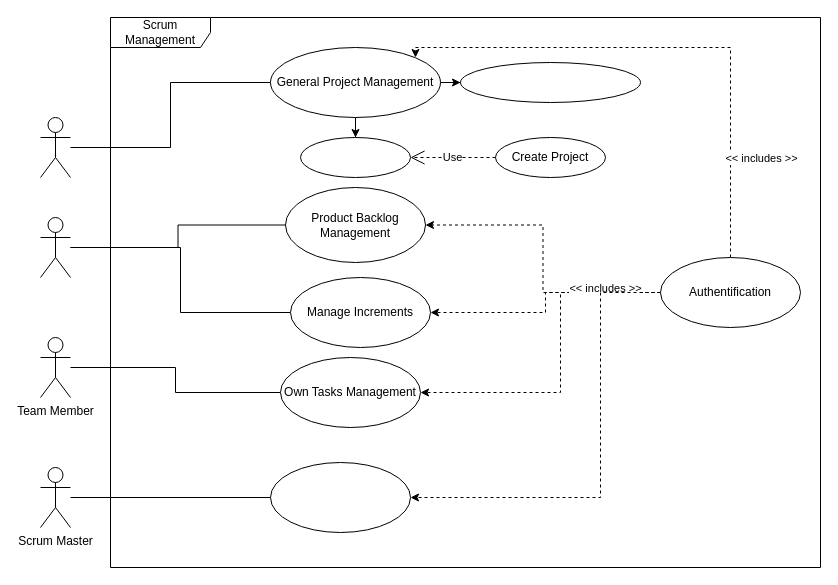
Image size: 838x585. Some labels were removed from this diagram. The centre of each missing label's shape, as x and y in pixels:
Assign Roles: the point at 355,157
Manager: the point at 55,147
PO: the point at 55,247
Sprint Backlog Management: the point at 340,497
View Analytics of All Projects: the point at 550,82
